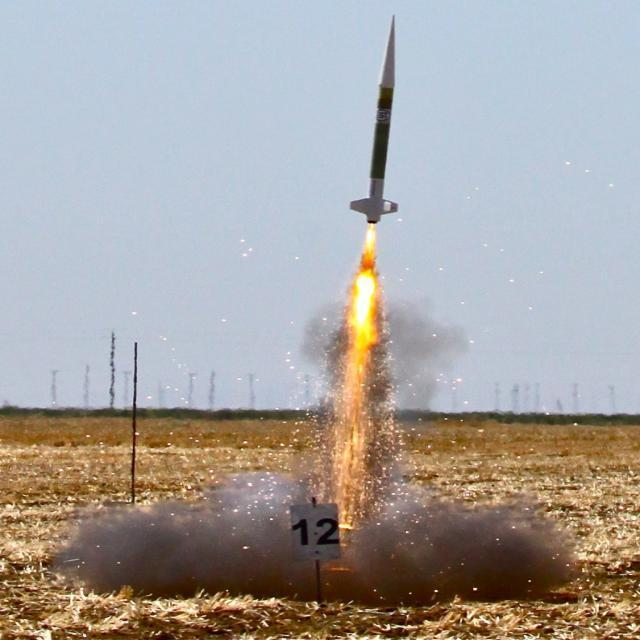missile: (349, 12, 402, 221)
